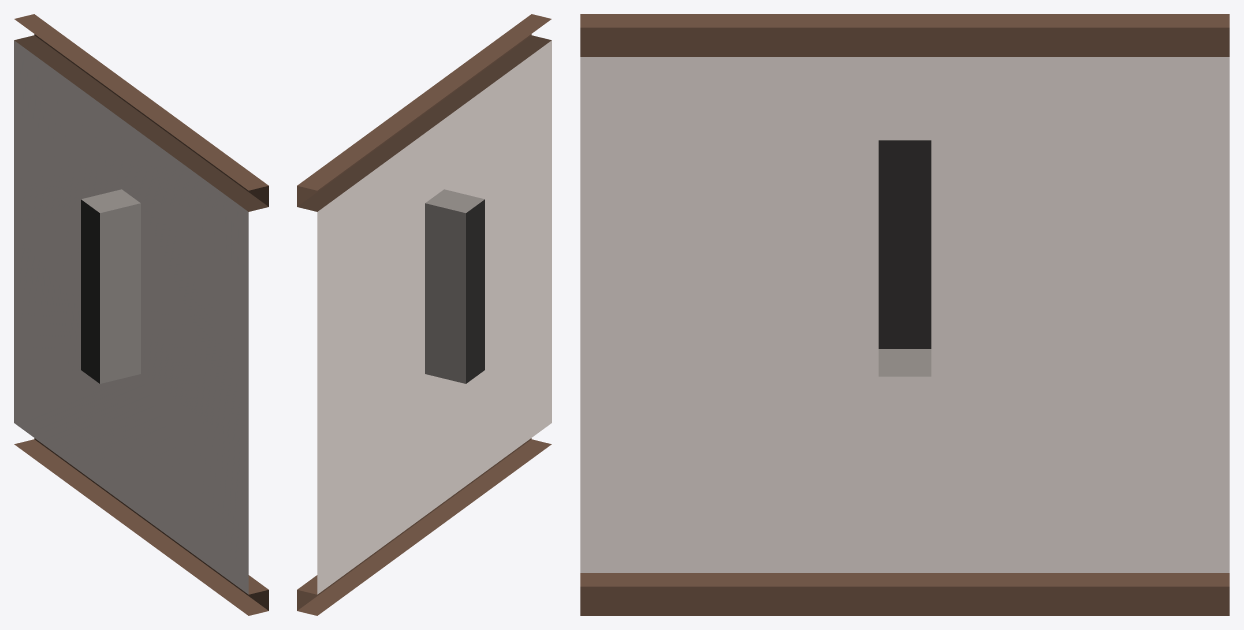
File: basic_wall_013.fbx
The picture shows the model from 3 angles, left to right: view 1: azimuth 30°, elevation 25°; view 2: azimuth 150°, elevation 25°; view 3: azimuth 270°, elevation 25°; orthographic projection. The views are drawn at different scales.
Parts seen in each view (by area): view 1: Base_Wall.013; view 2: Base_Wall.013; view 3: Base_Wall.013.
Boxes of the visible parts, x1=… form: Base_Wall.013: x1=14, y1=14, x2=268, y2=615; Base_Wall.013: x1=297, y1=14, x2=551, y2=615; Base_Wall.013: x1=580, y1=14, x2=1229, y2=615.
Size of the model in its own units: 200 by 30.12 by 200.
